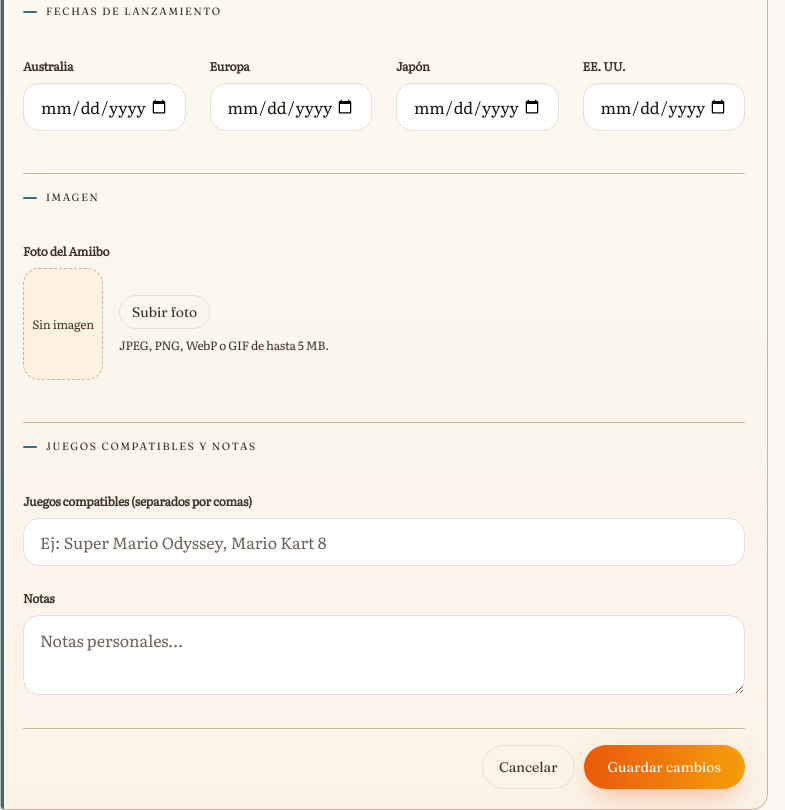
Test case: AmiiboEditPage › exige la fecha de obtención cuando la pieza está en propiedad
(page scrolled)
Click the button "Guardar cambios". click: {"x": 664, "y": 767}
box: [584,745,745,789]
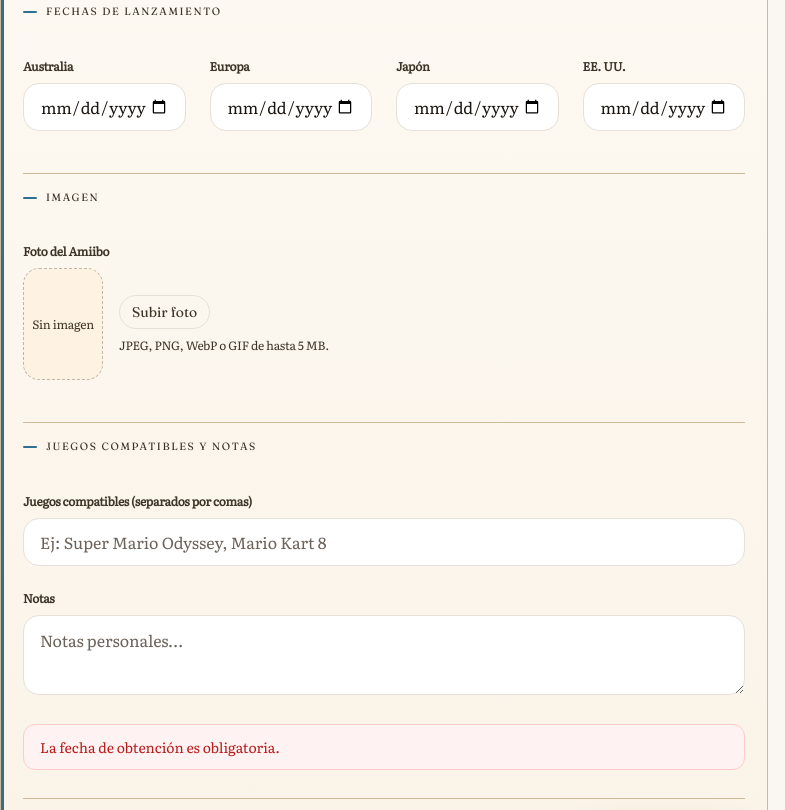
Now the message reads "La fecha de obtención es obligatoria.", box [40,737,280,757]
